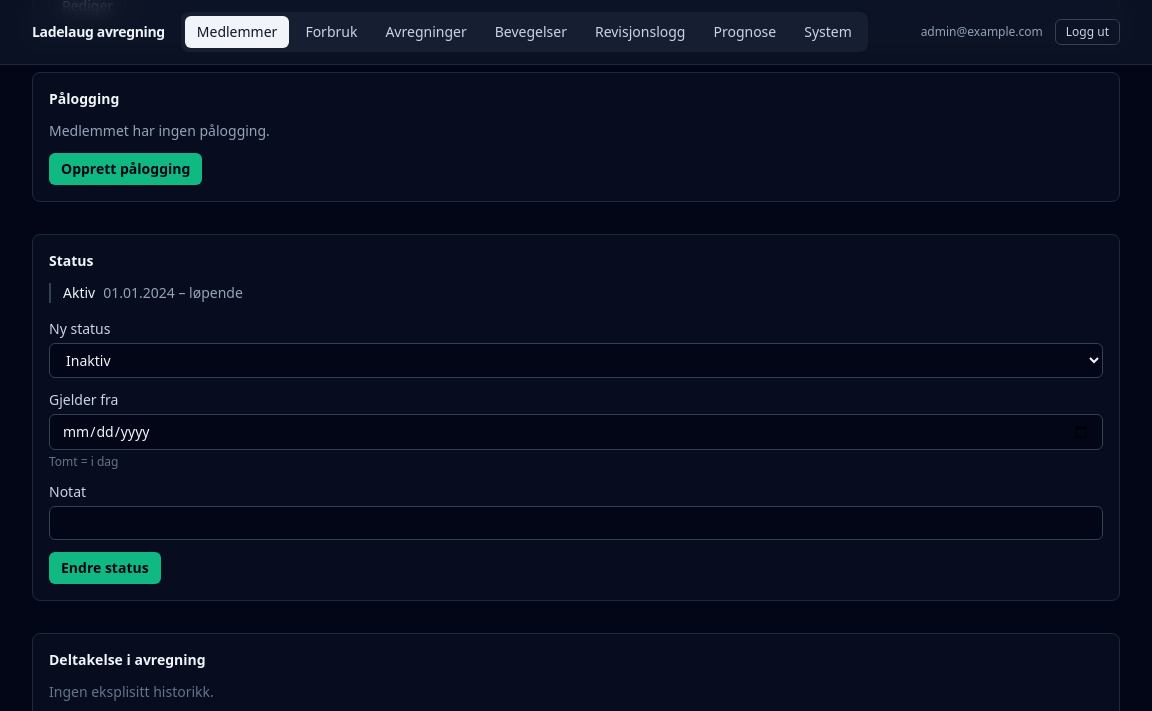
Test: MemberDetail (admin) › records a status change and renders the new timeline entry
(page scrolled)
Check: the heading "Status" is shown, box [49,251,94,270]
Select "Inaktiv" in the dropdown labelled "Ny status" at (576, 360), box [49,343,1103,378]
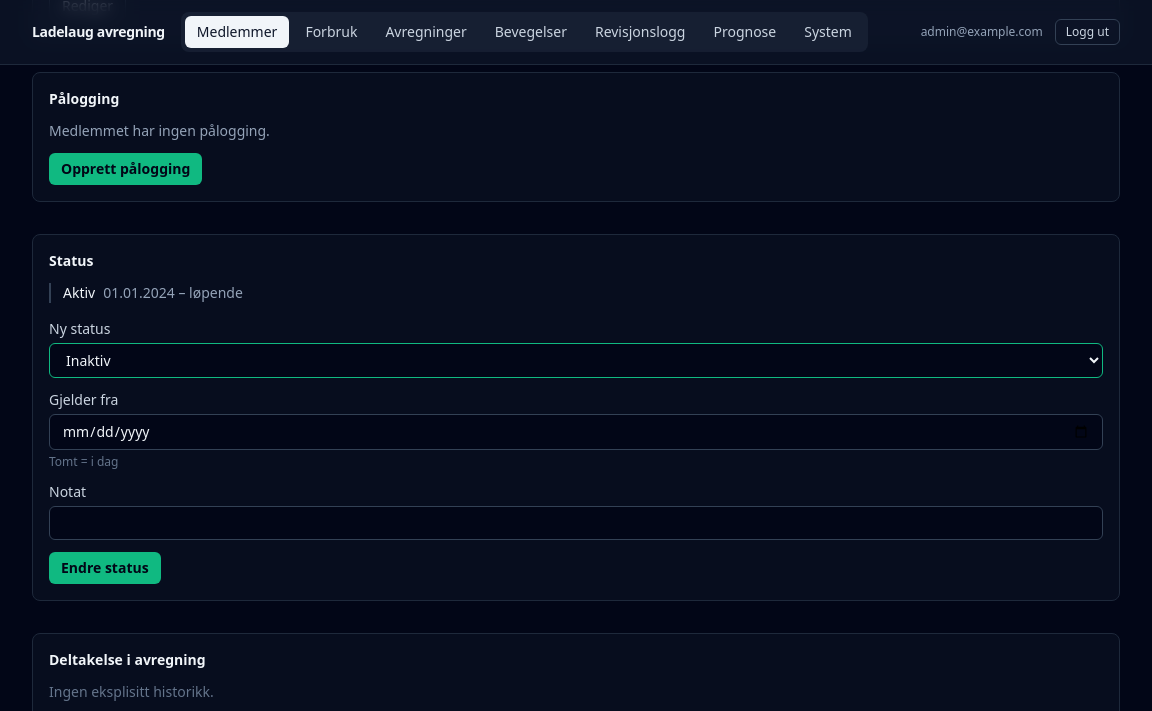
Type "Flyttet ut" into the field labelled "Notat" at (576, 523), box [49,506,1103,540]
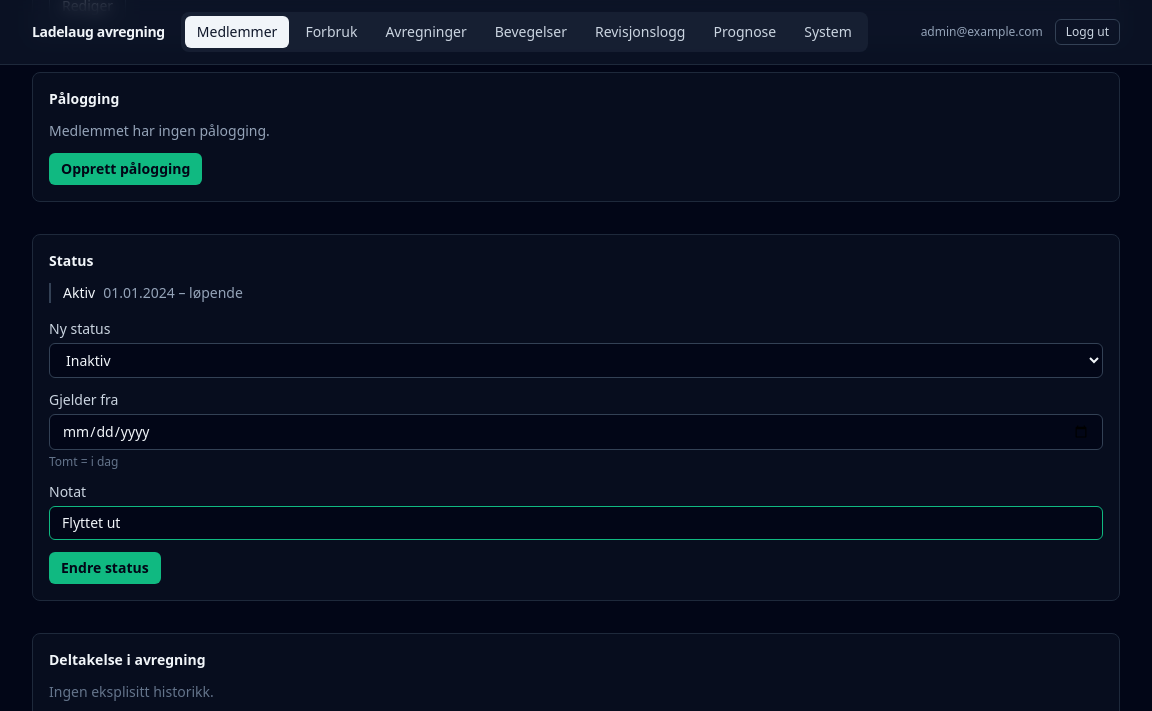
Click the button "Endre status" at (105, 568), box [49,552,161,584]
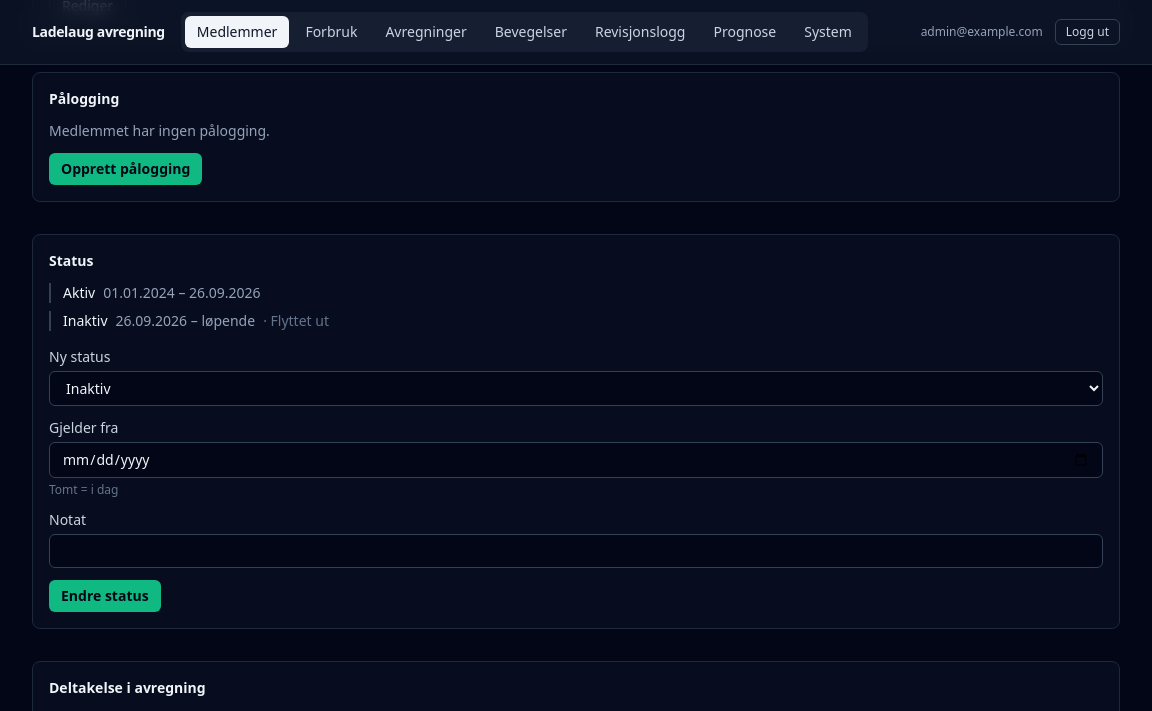
Check: the text "· Flyttet ut" is shown, box [263,311,329,331]
